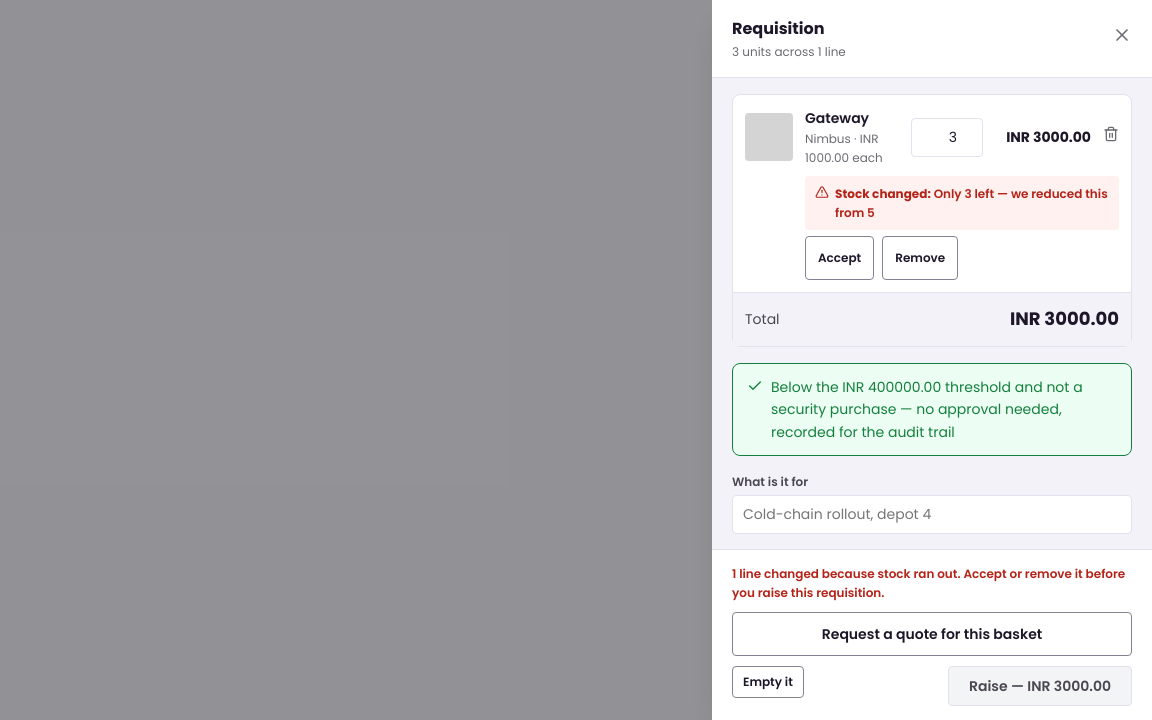
RequisitionPanel with a stock flag › says why an Accept was refused, under the line
Click the button with aria-label "Accept the change to Gateway" at (840,258), box [805,236,874,280]
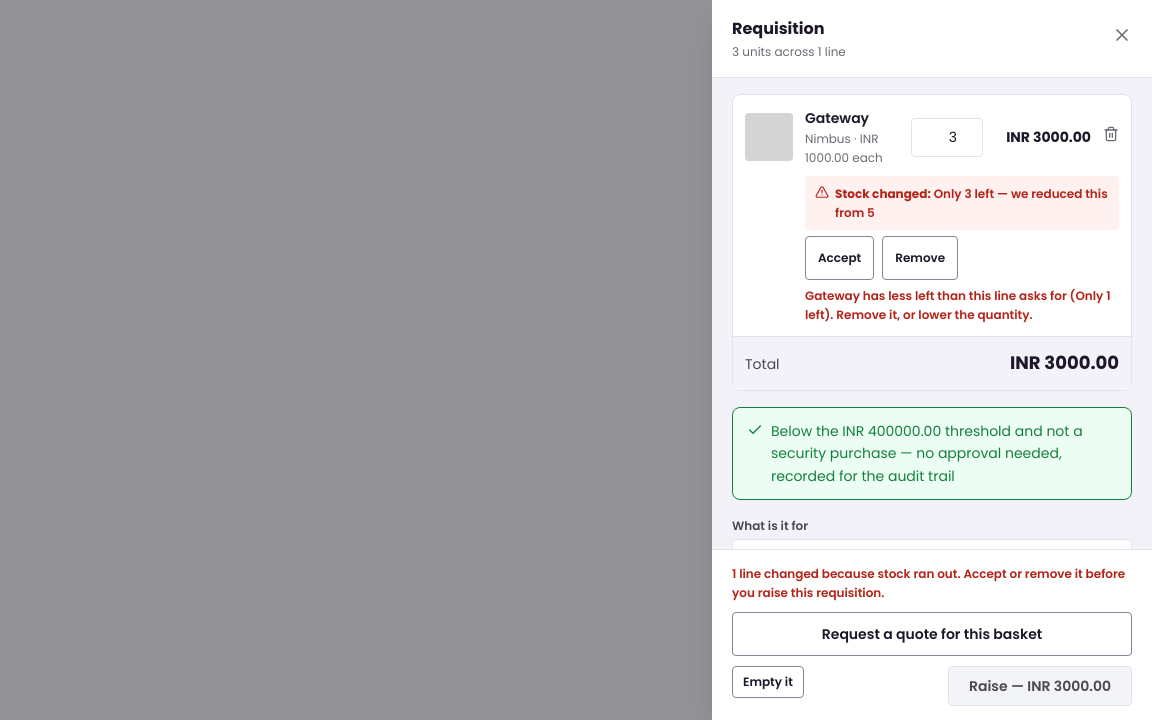
expect the 1st message shows "has less left than this line asks for": met, box [805,287,1111,323]
